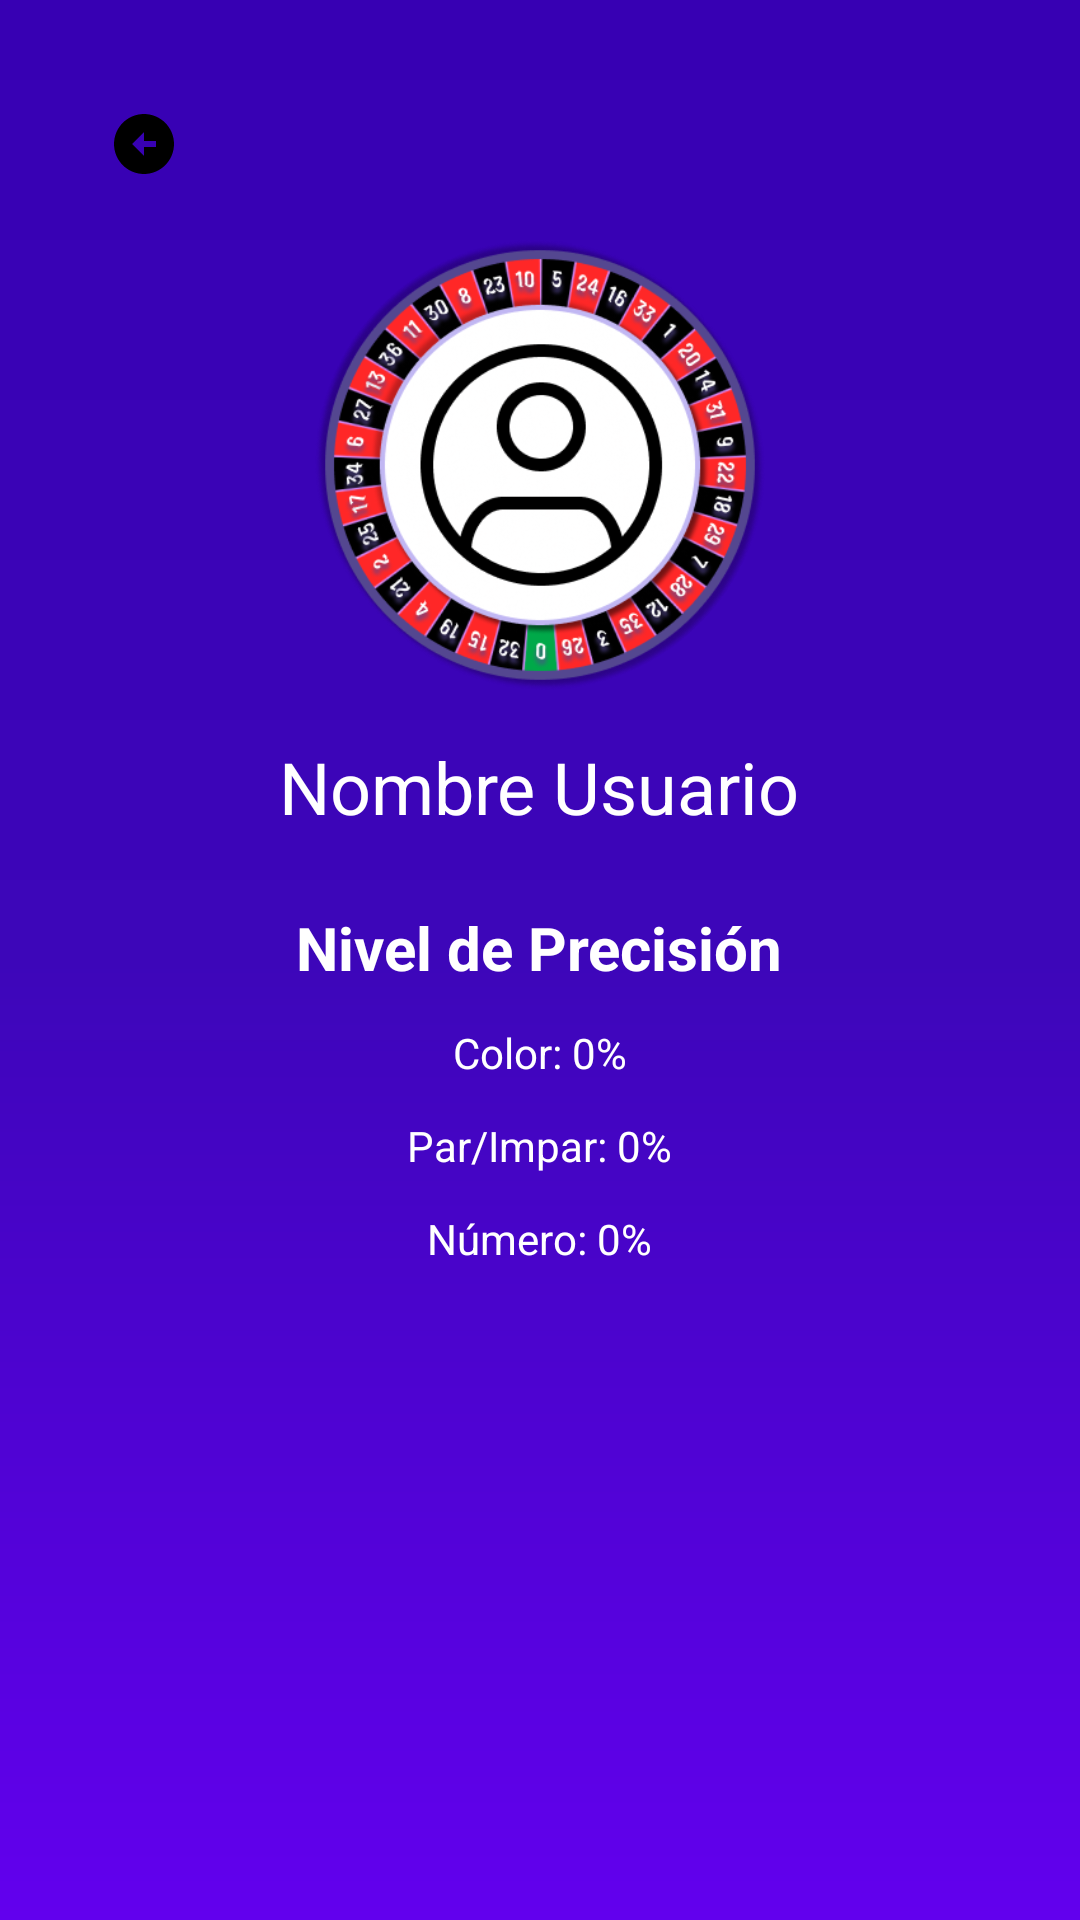

Icons on this 1080px×1920px Android screen, each with its box as [x1,y1,x2,y2]:
Volver: [114,114,174,174]
